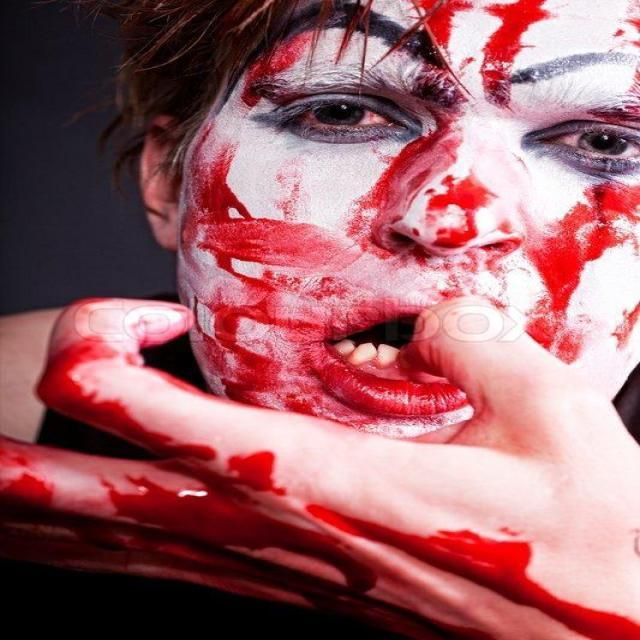flood: (121, 481, 640, 640), (168, 152, 348, 281)
